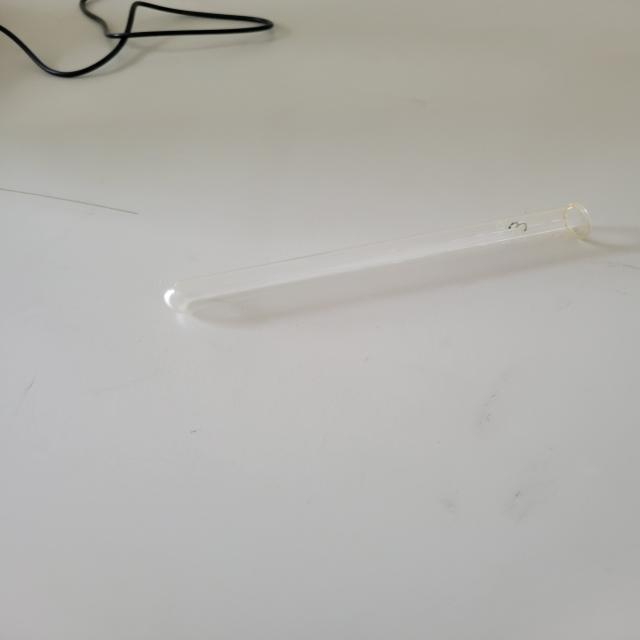Test_Tube: (123, 167, 619, 365)
